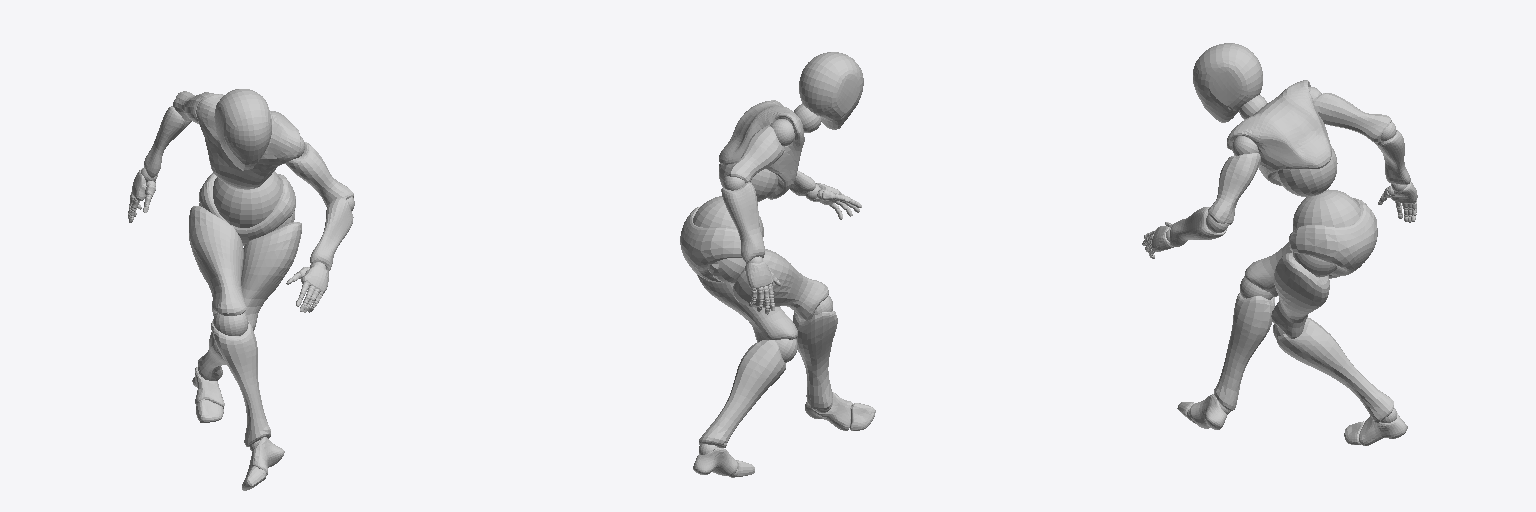
3 views of the same model, side by side, from view 1: azimuth 30°, elevation 25°; view 2: azimuth 150°, elevation 25°; view 3: azimuth 270°, elevation 25° (orthographic).
Visible parts, largest first — view 1: Beta_Surface, Beta_Joints; view 2: Beta_Surface, Beta_Joints; view 3: Beta_Surface, Beta_Joints.
Boxes of the visible parts, box(x1,y1,x2,y2) form: Beta_Surface: box(128, 89, 353, 490); Beta_Joints: box(128, 100, 354, 480); Beta_Surface: box(680, 52, 875, 476); Beta_Joints: box(693, 104, 857, 477); Beta_Surface: box(1142, 43, 1417, 445); Beta_Joints: box(1143, 87, 1416, 422).
Size of the model in its own units: 0.533 by 1.46 by 0.9477.